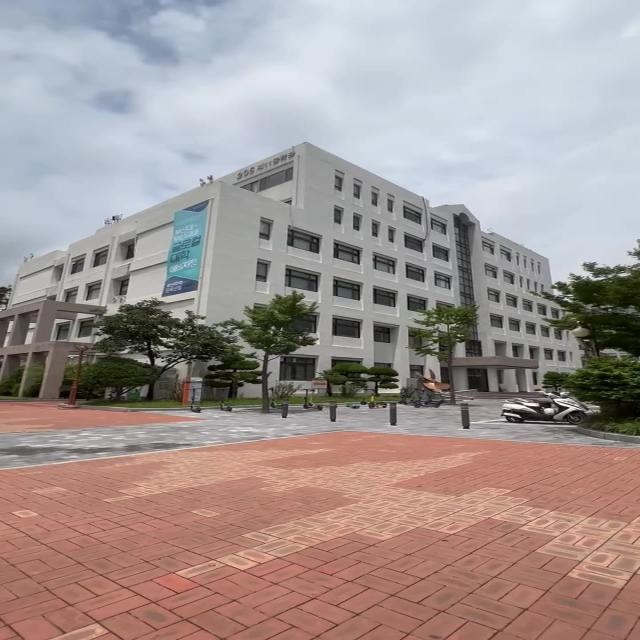building: (222, 149, 537, 296)
